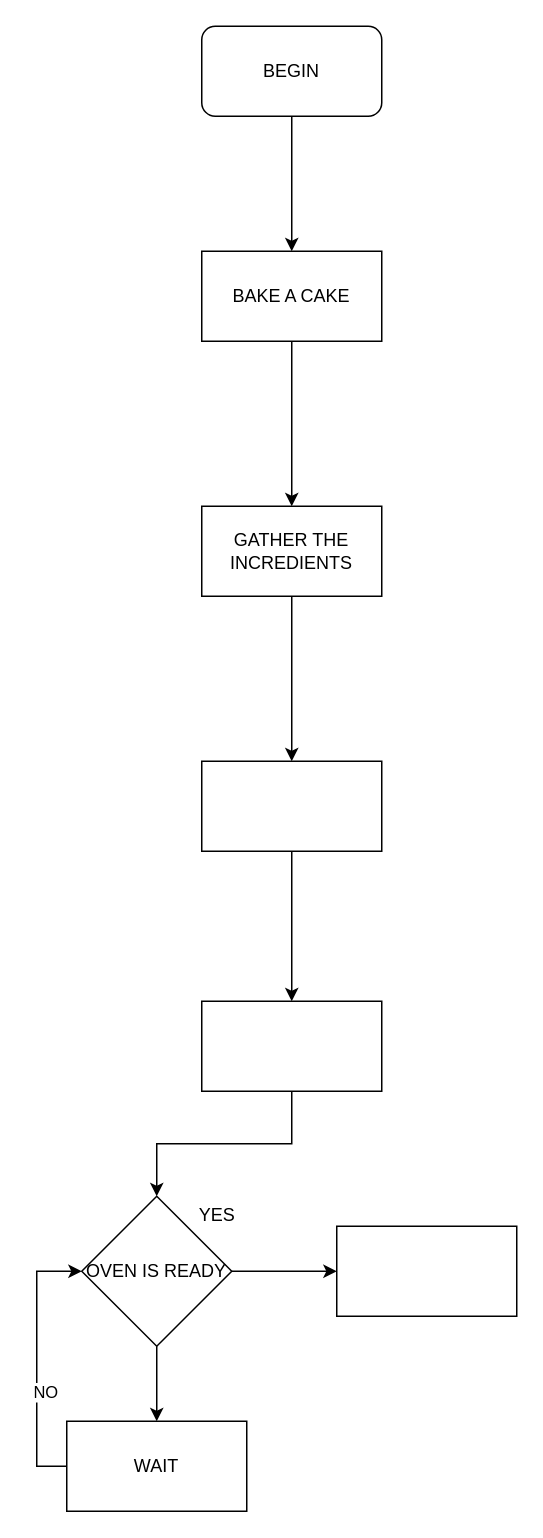
This 543x1538 diagram has some shape labels left out. Here are the shapes that lost their labels. From the top down, the centre of each, then its label:
At pixel 291 805: "PREHEAL THE OVEN".
At pixel 291 1045: "MAKE THE DOUGH".
At pixel 426 1270: "PUT THE CAKE IN THE OVEN".
